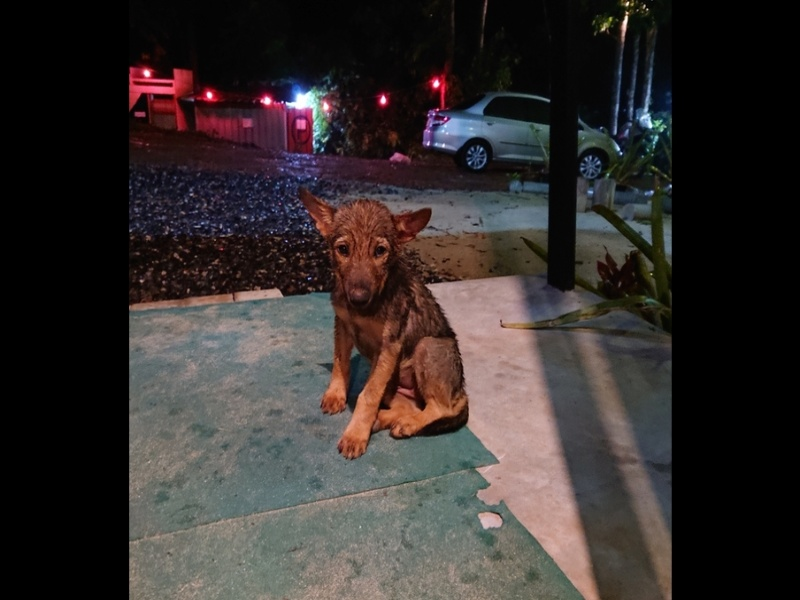dog: (293, 183, 472, 465)
